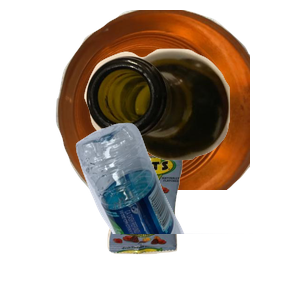glass: (82, 46, 300, 199)
metal: (53, 10, 293, 190)
plastic: (73, 120, 300, 300)
trash: (105, 152, 280, 300)
